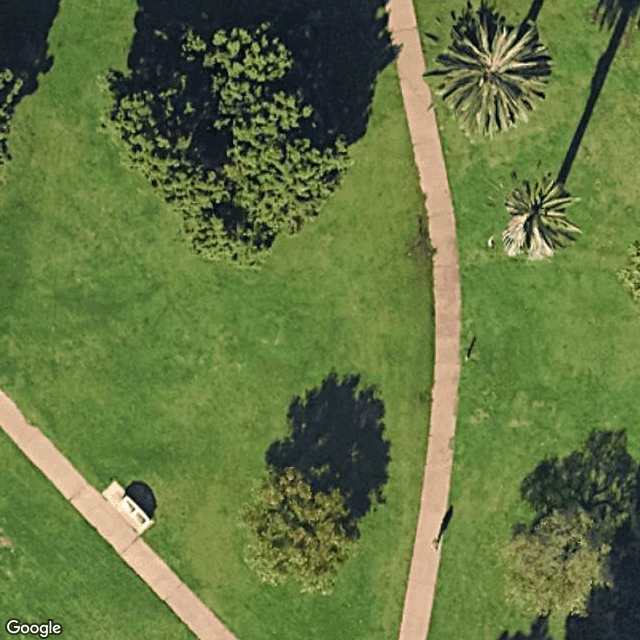palm: (408, 1, 566, 150), (474, 159, 596, 269)
